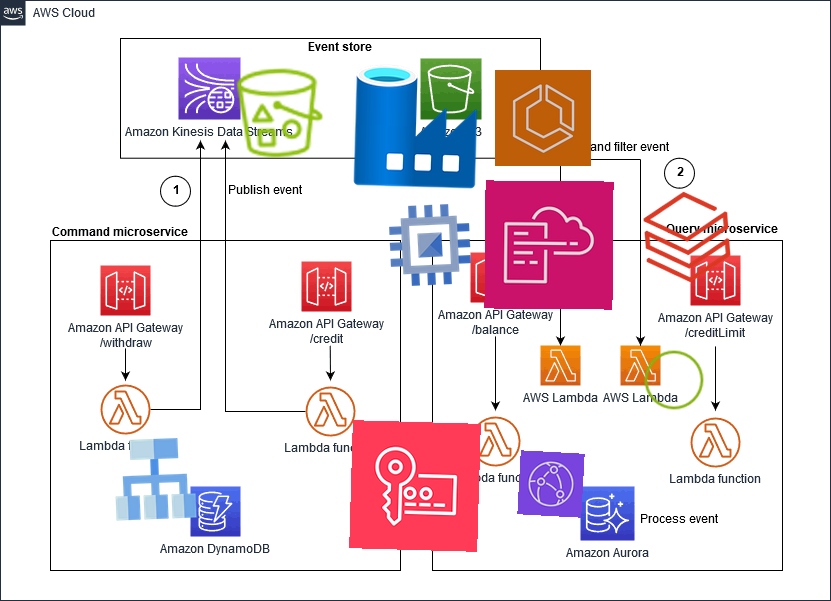aws_amazon_cloudfront: (517, 450, 585, 518)
aws_amazon_elastic_container_service: (494, 69, 592, 167)
aws_cloudformation: (484, 180, 614, 310)
aws_key_management_service: (349, 420, 481, 552)
aws_simple_storage_service_bucket_with_objects: (230, 63, 330, 163)
aws_simple_storage_service_object: (641, 347, 707, 413)
azure_data_factories: (350, 60, 482, 192)
azure_databricks: (635, 185, 739, 289)
gcp_cloud_load_balancing: (105, 429, 205, 529)
gcp_compute_engine: (379, 194, 481, 296)
